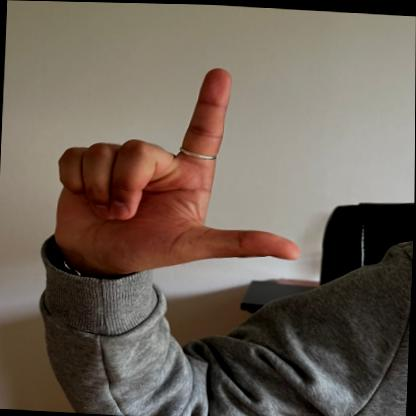L: (42, 47, 311, 285)
